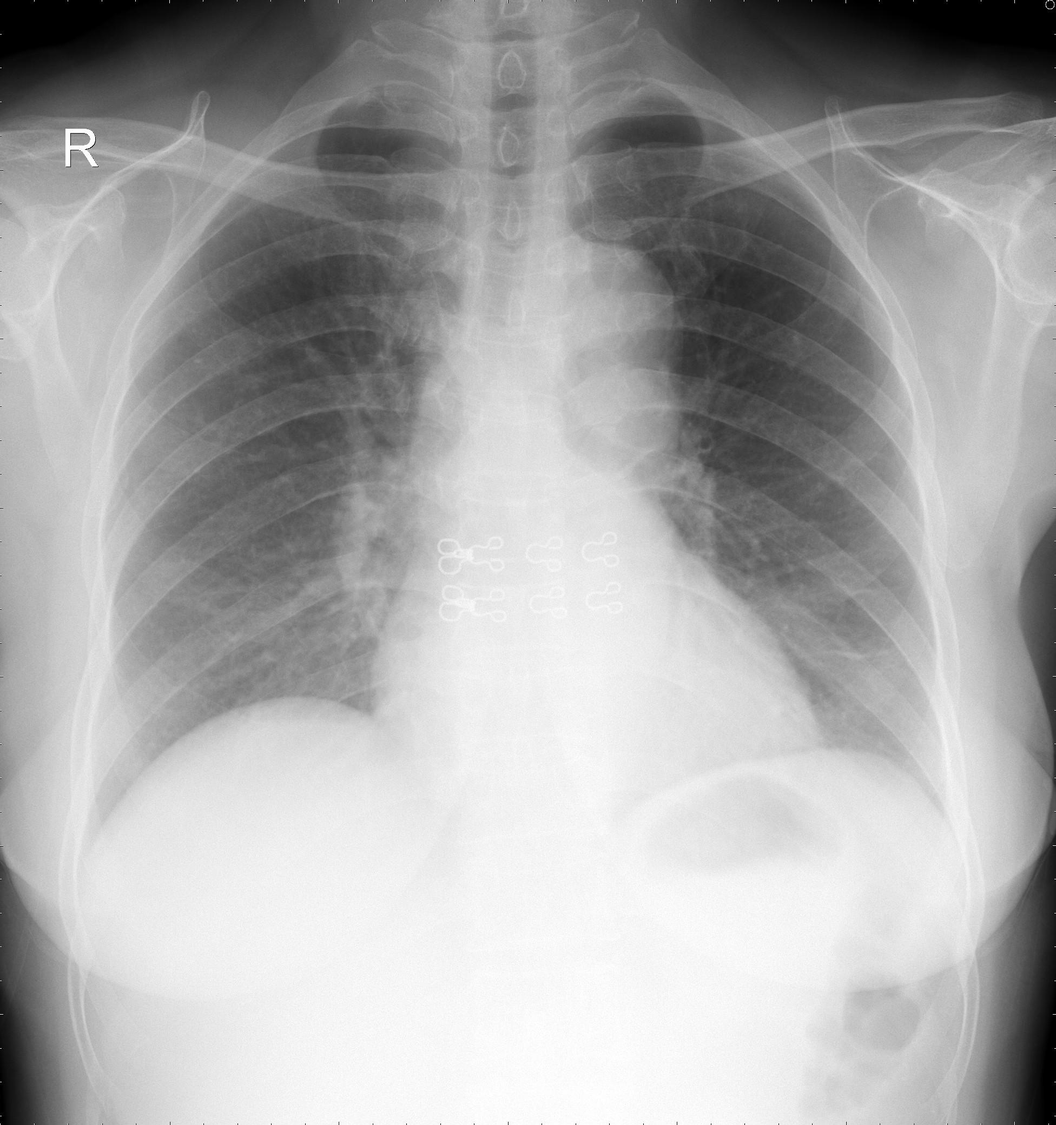Aortic enlargement: (519, 242, 682, 427)
Cardiomegaly: (366, 634, 830, 783)
Pulmonary fibrosis: (820, 645, 892, 660)
